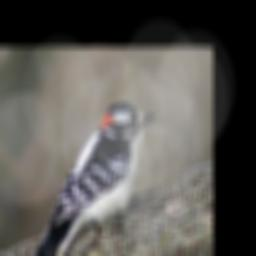Woodpecker: (31, 103, 155, 256)
